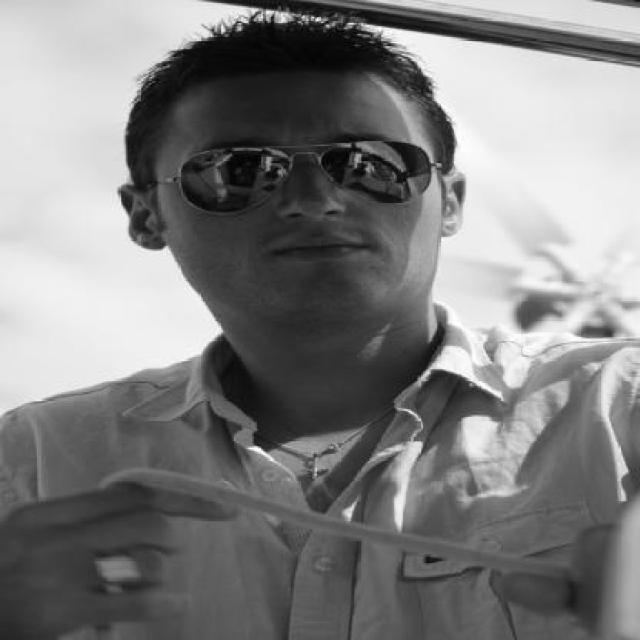face_nomask: (203, 139, 414, 279)
glasses: (156, 150, 459, 202)
hand_noglove: (0, 478, 242, 624)
head_nohelmet: (122, 16, 430, 126)
